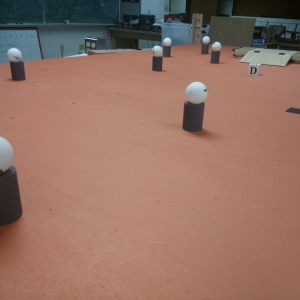blockD: (249, 64, 259, 76)
corner: (191, 13, 202, 43)
obstacle: (1, 134, 19, 222), (184, 82, 206, 131), (6, 47, 26, 79), (152, 46, 163, 71), (213, 43, 221, 66), (202, 35, 210, 53), (163, 37, 171, 55)
slope: (243, 49, 290, 67)
